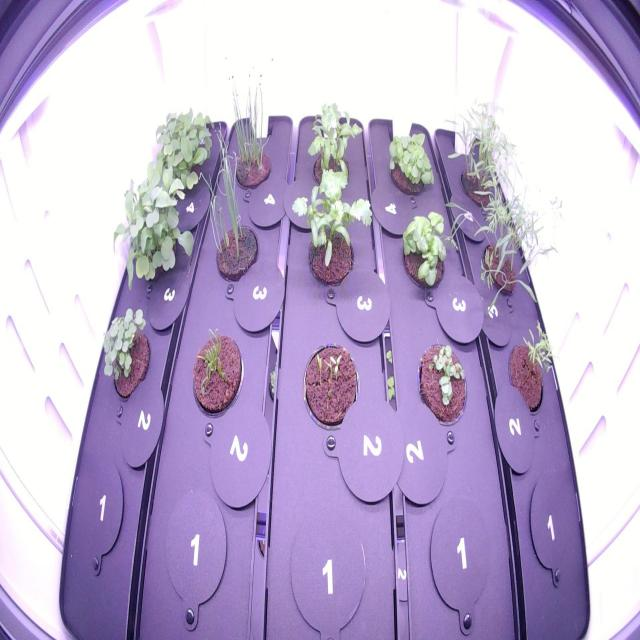empty_pod: (283, 502, 372, 629), (420, 488, 504, 620), (158, 480, 235, 604), (525, 466, 585, 592), (71, 458, 135, 567)
germination: (495, 316, 568, 422), (294, 330, 364, 437), (182, 316, 248, 426), (90, 301, 157, 409), (409, 330, 472, 433)
